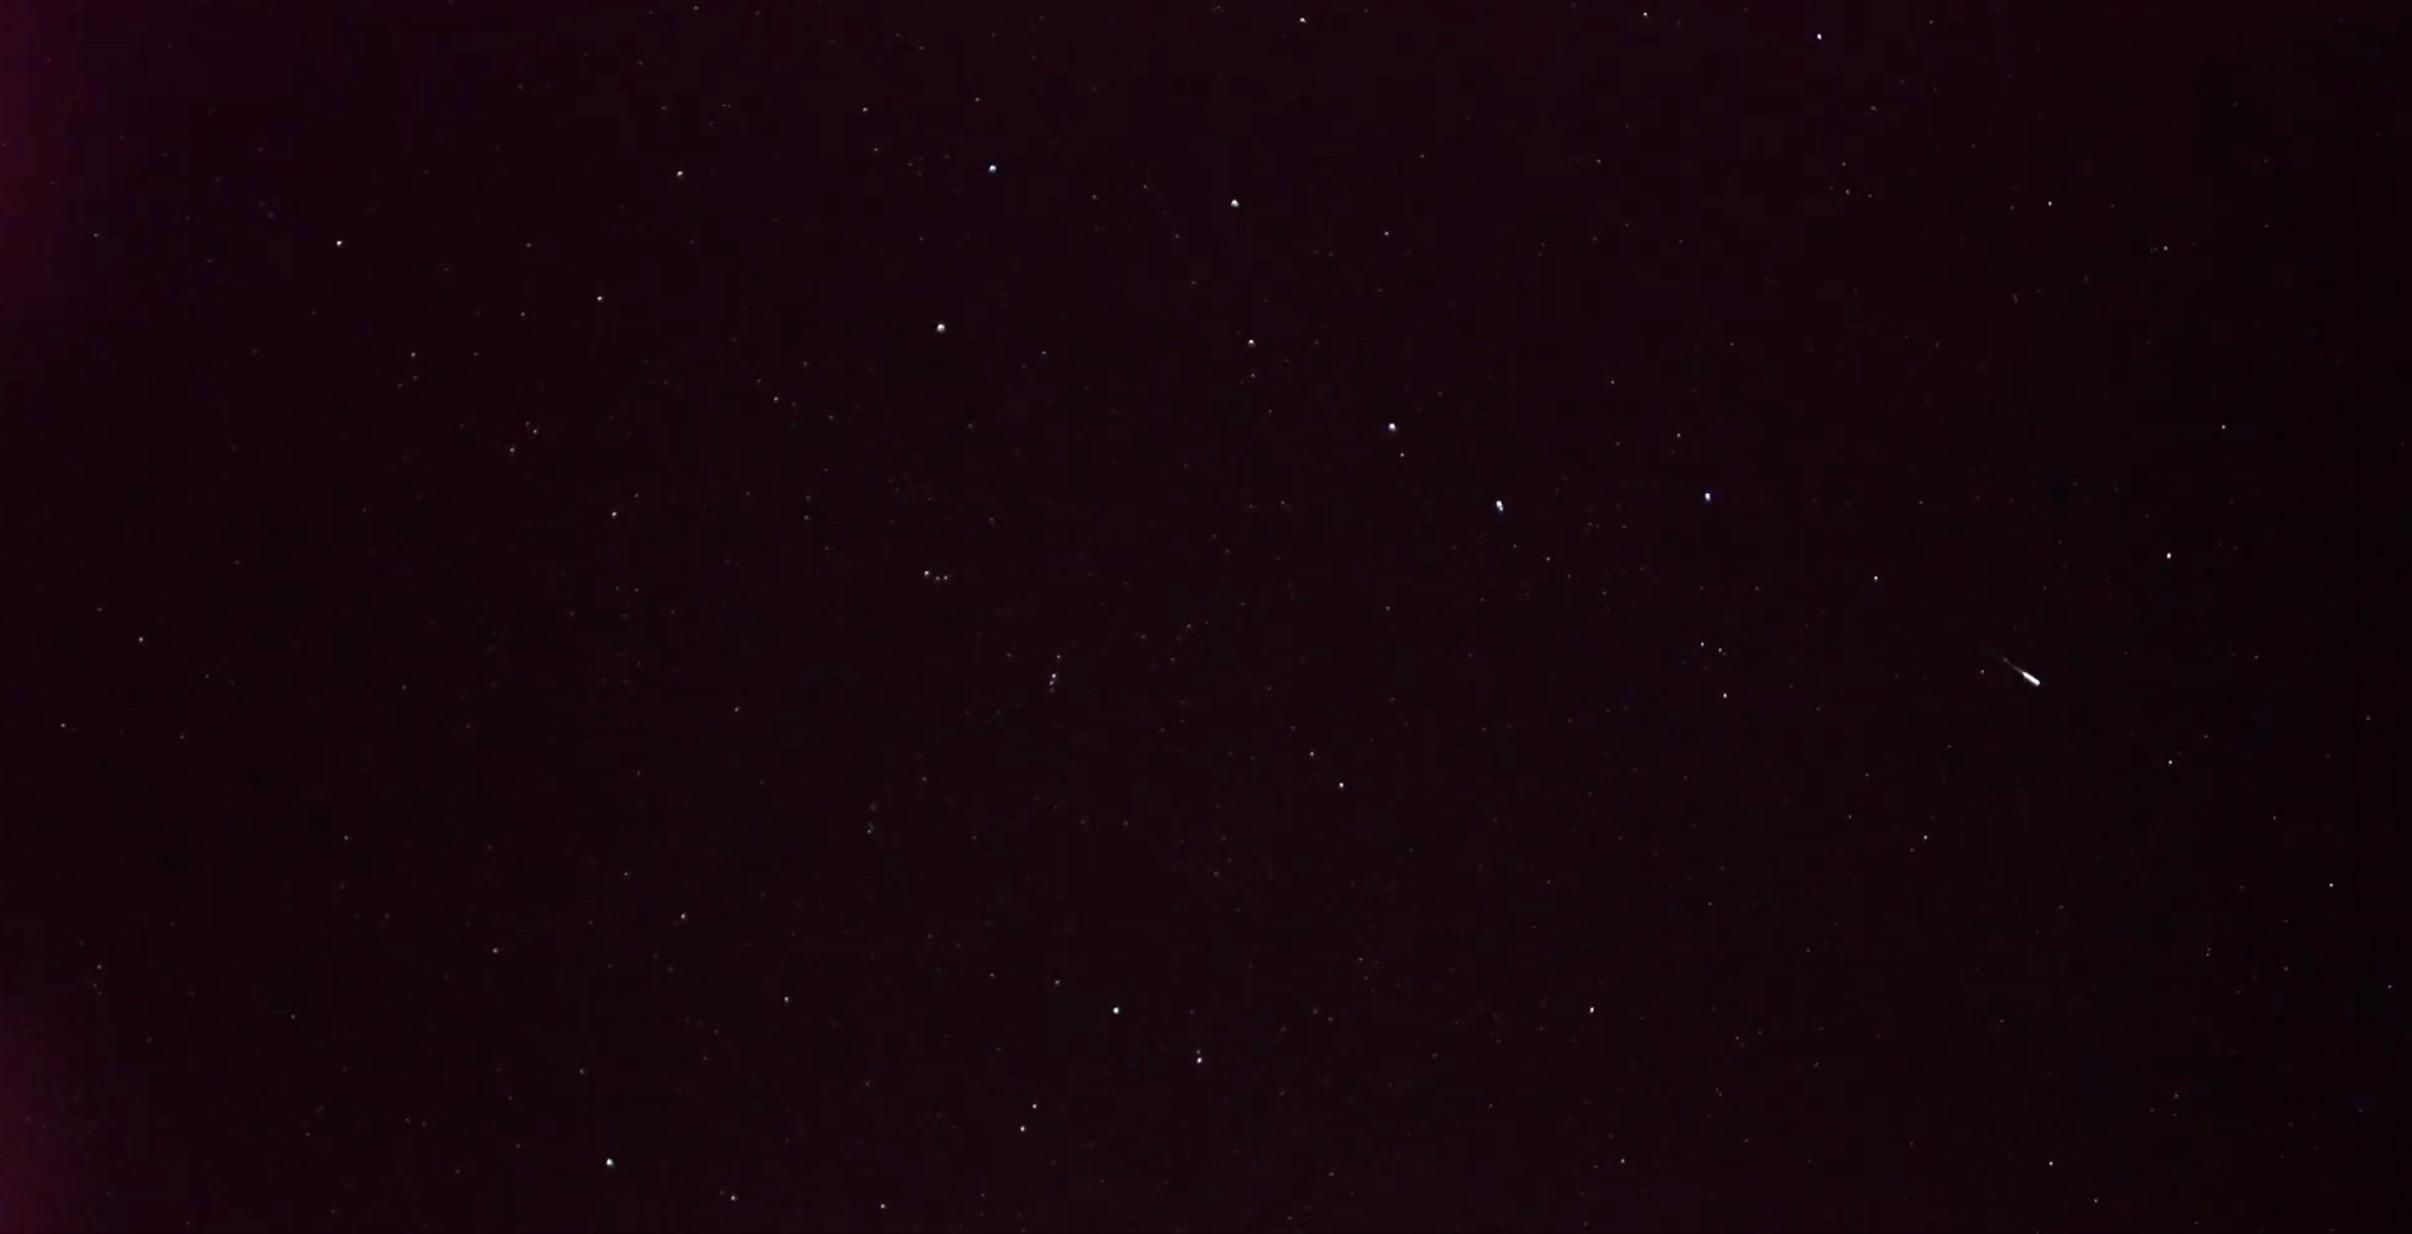meteorite: (1962, 644, 2078, 704)
